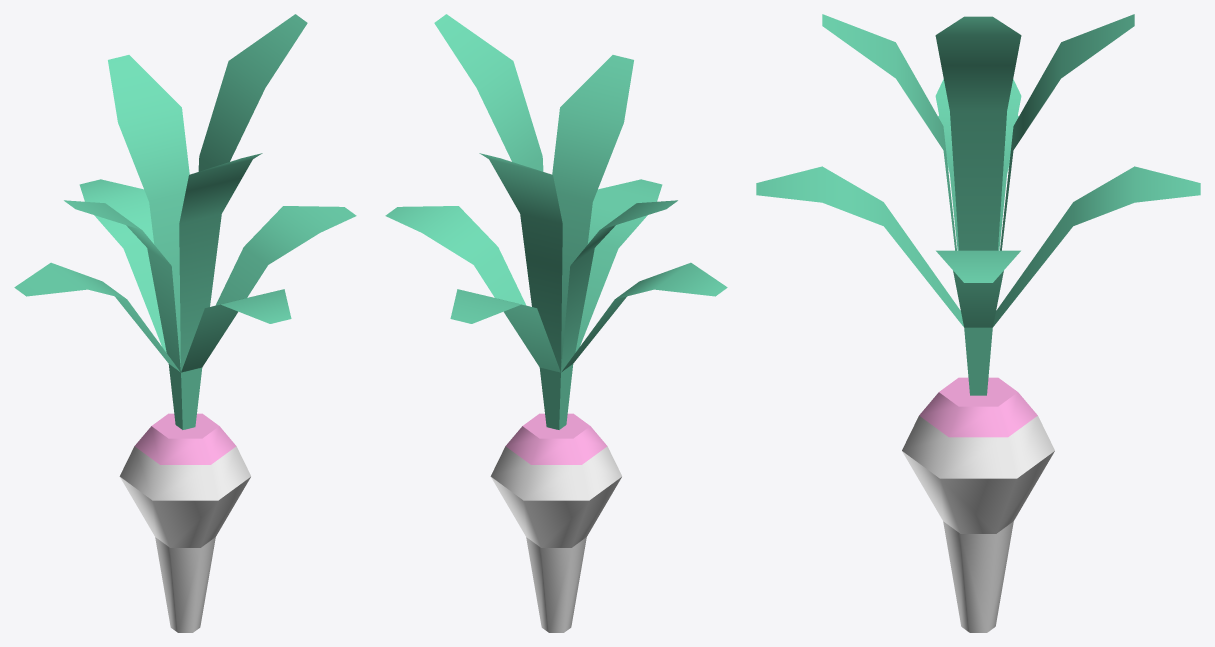
The model's file is FakeCrop.fbx.
3 renders of one model, left to right at view 1: azimuth 30°, elevation 25°; view 2: azimuth 150°, elevation 25°; view 3: azimuth 270°, elevation 25°, orthographic. The views are drawn at different scales.
Visible parts, largest first — view 1: radish; view 2: radish; view 3: radish.
Part boxes in pixels (<box>): radish: <box>14,14,356,632</box>; radish: <box>385,14,727,632</box>; radish: <box>756,14,1200,632</box>.
Size of the model in its own units: 34.31 by 57.63 by 34.31.
